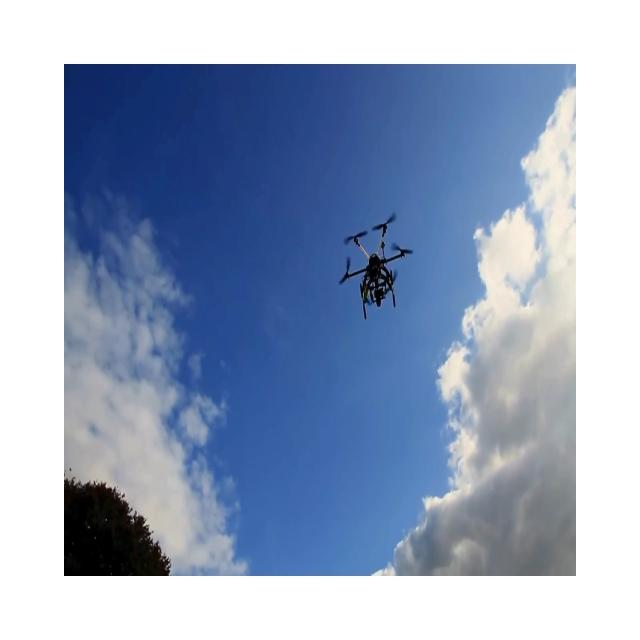drone: (338, 210, 413, 320)
